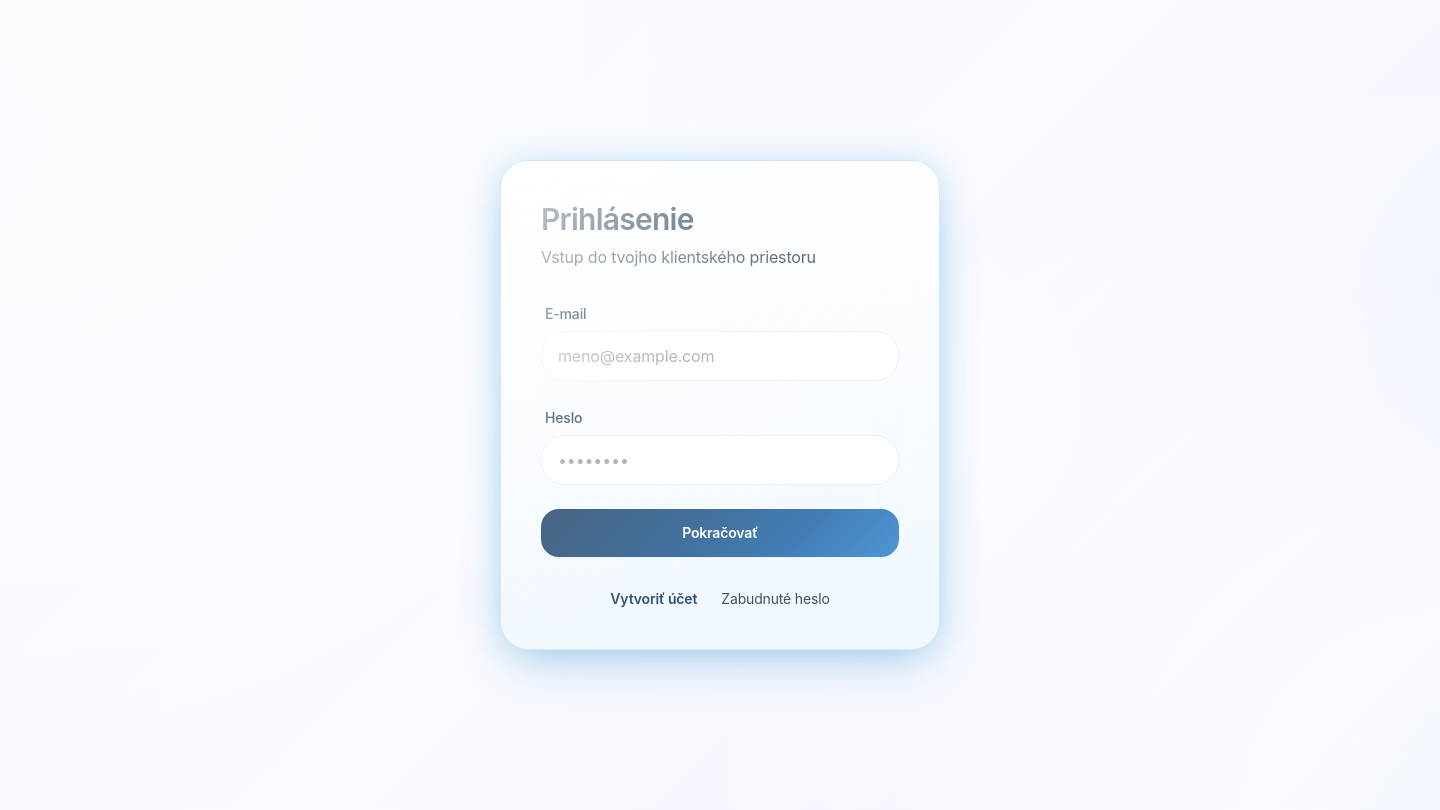
Test: Auth page › switches to registration mode
Click the button "Vytvoriť účet" at [654, 599], box [610,589,697,609]
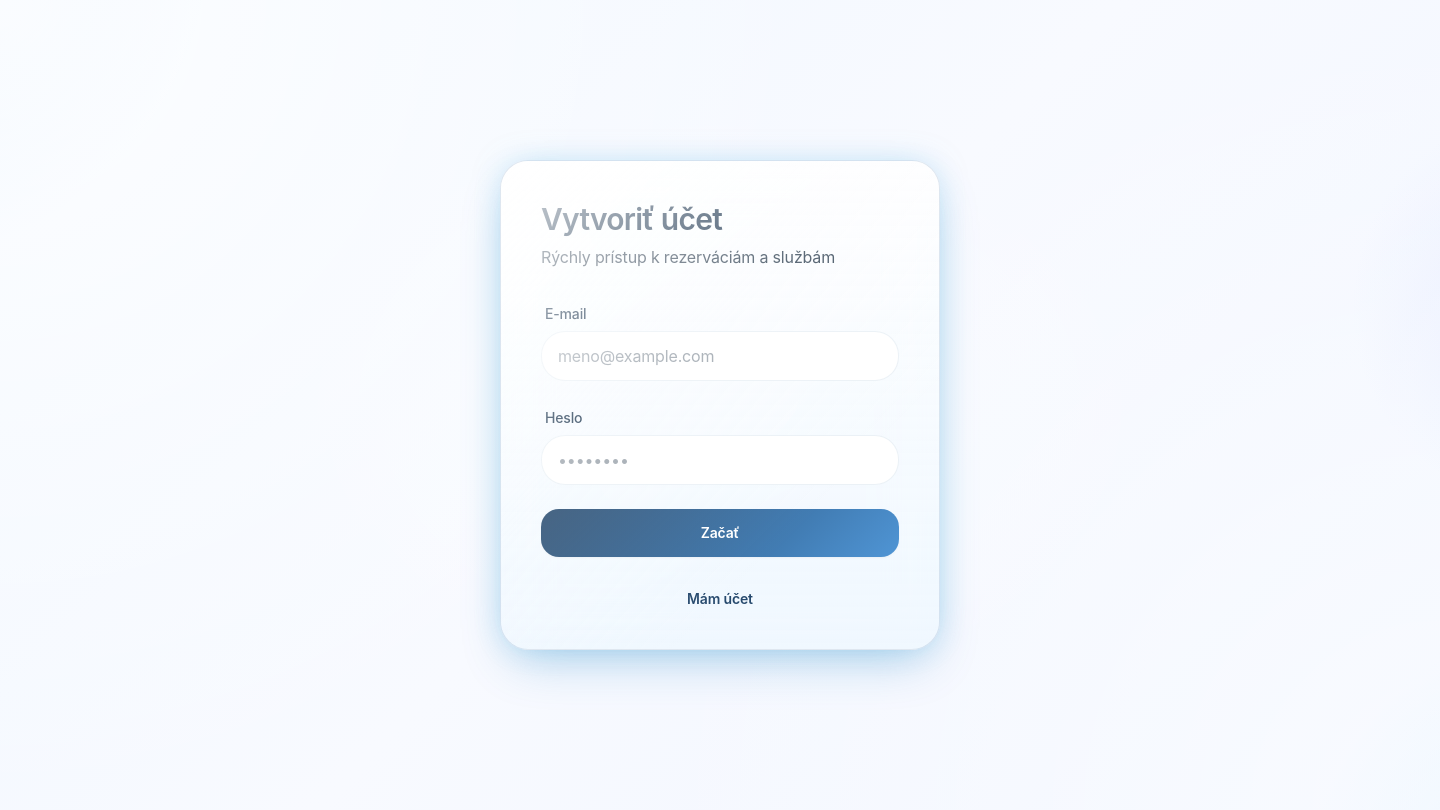
Now the heading "Vytvoriť účet" is shown, box [541,201,722,237]
Now the button "Začať" is shown, box [541,509,899,557]
